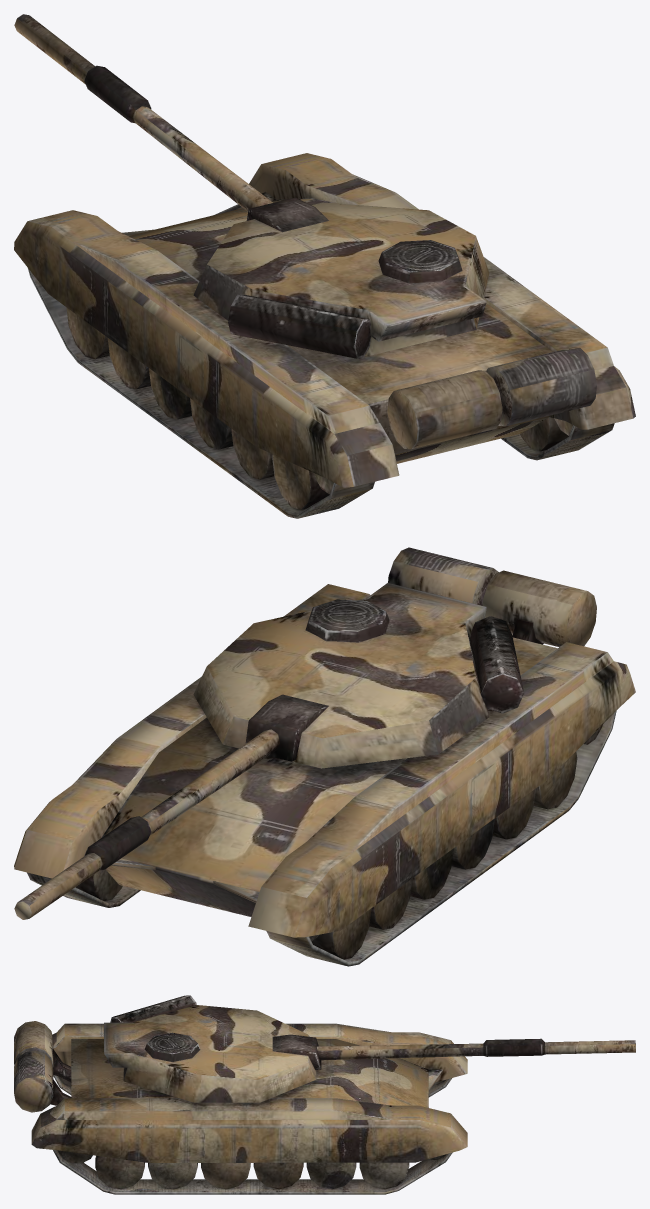
The model's file is tank.glb.
The picture shows the model from 3 angles, top to bottom: view 1: azimuth 30°, elevation 25°; view 2: azimuth 150°, elevation 25°; view 3: azimuth 270°, elevation 25°; orthographic projection. The views are drawn at different scales.
Visible parts, largest first — view 1: tank; view 2: tank; view 3: tank.
Boxes of the visible parts, x1=… form: tank: x1=14, y1=14, x2=635, y2=518; tank: x1=14, y1=547, x2=635, y2=966; tank: x1=14, y1=995, x2=635, y2=1194.
Bounding box in the file's own units: 3.33 × 2.02 × 9.5.
1 material, 1 textured.
